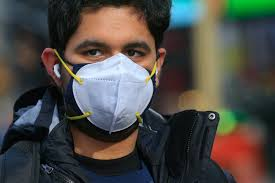FaceMask: (67, 54, 156, 141)
